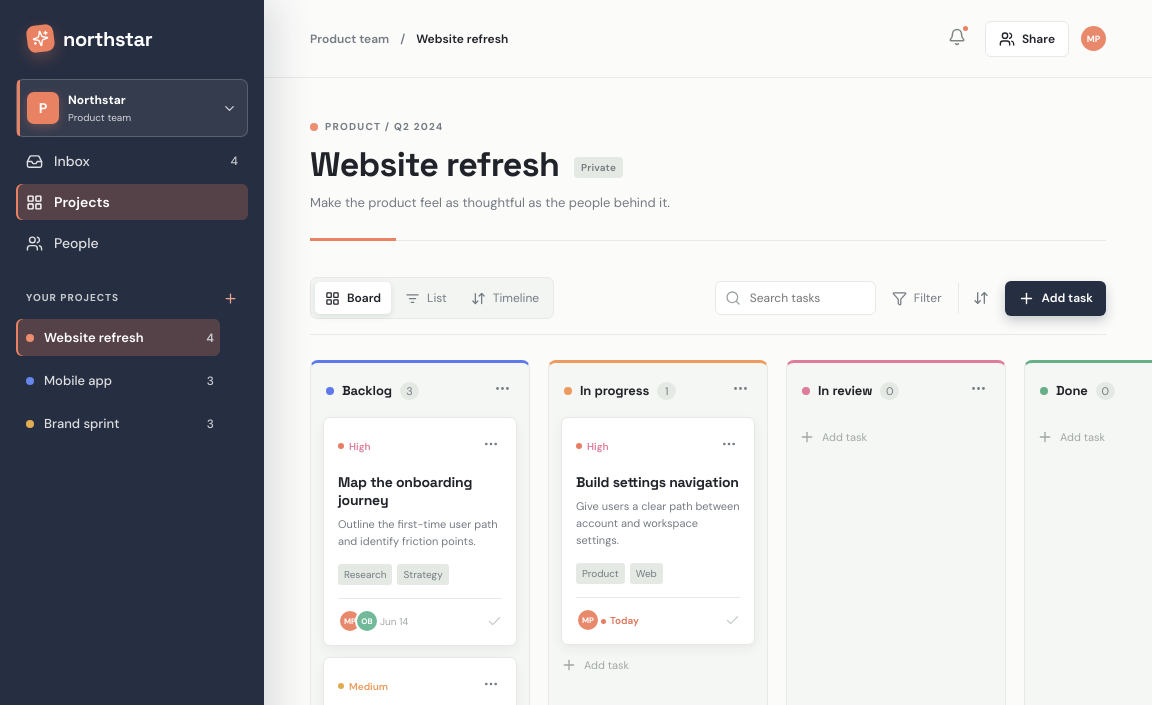
Scenario: Project management › adding a duplicate project name auto-increments suffix (edge case)
Click the button named "Add project" at (230,300), box [223,291,238,309]
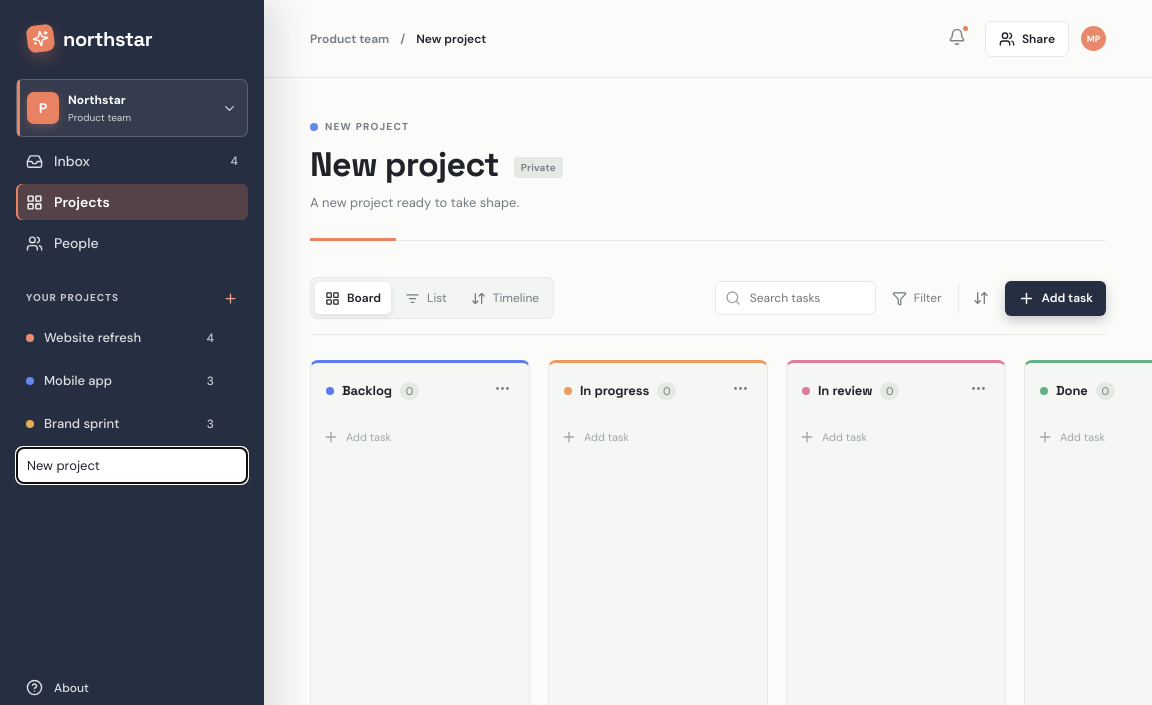
Leave the field showing "New project", box [16,447,248,484]
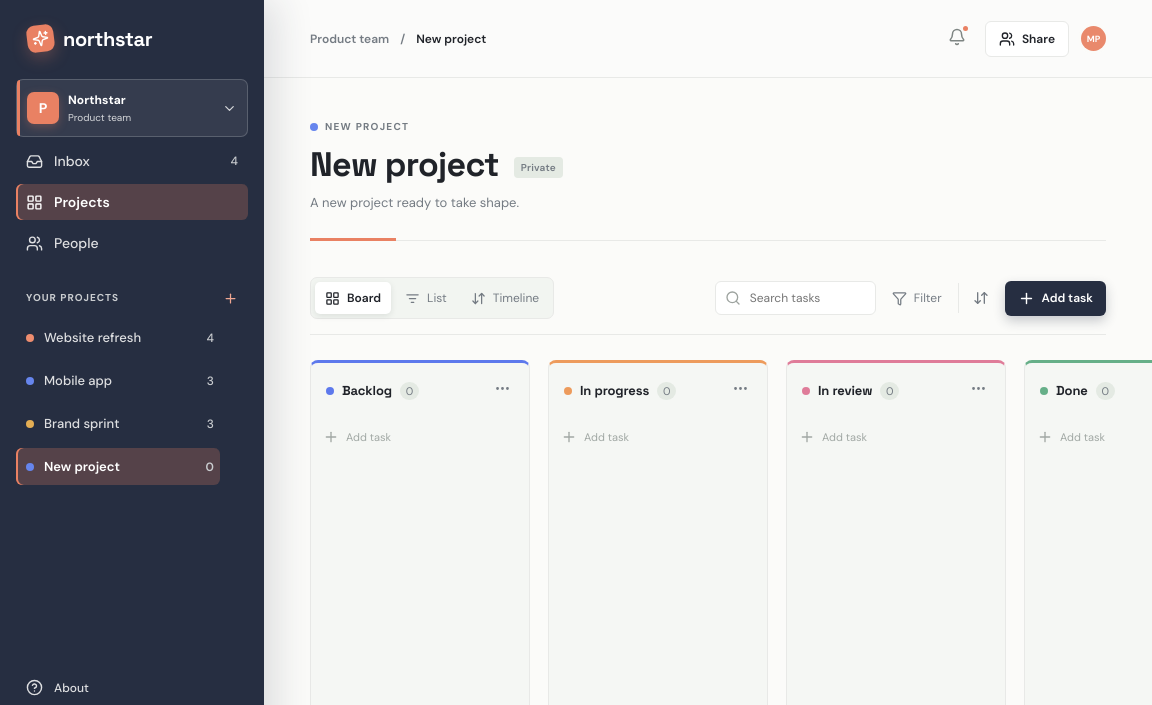
Click the button named "Add project" at (230,300), box [223,291,238,309]
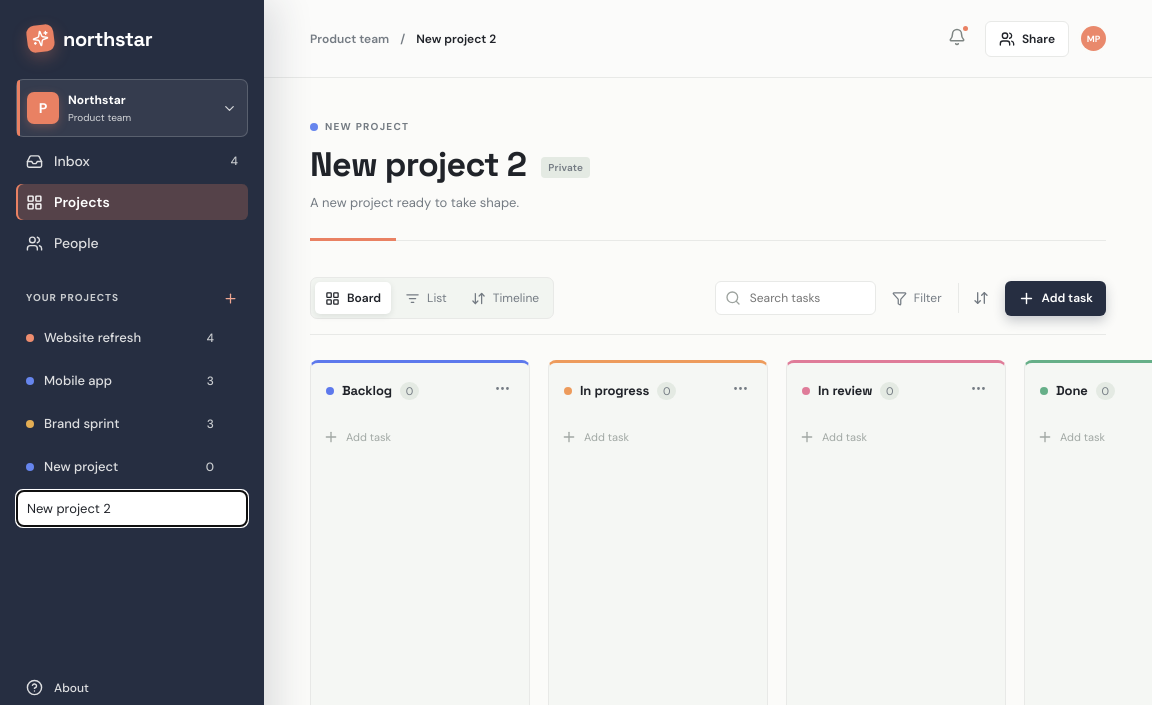
Expected: the field showing "New project 2" is shown, [16,490,248,527]
